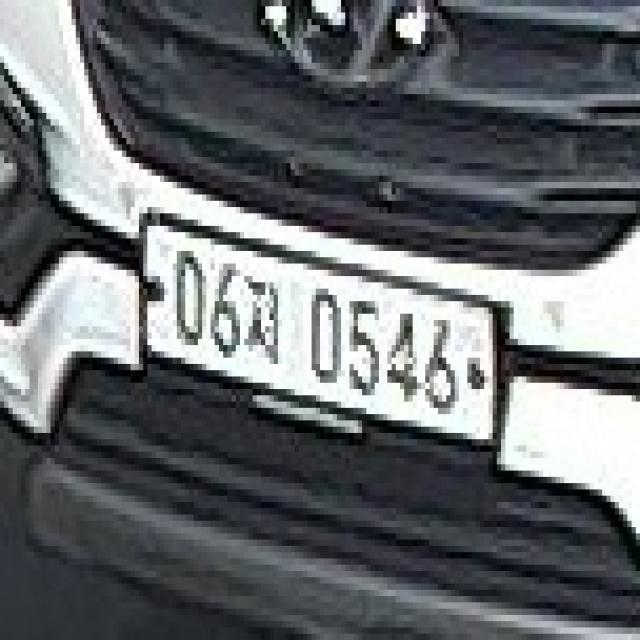plat: (133, 202, 513, 453)
